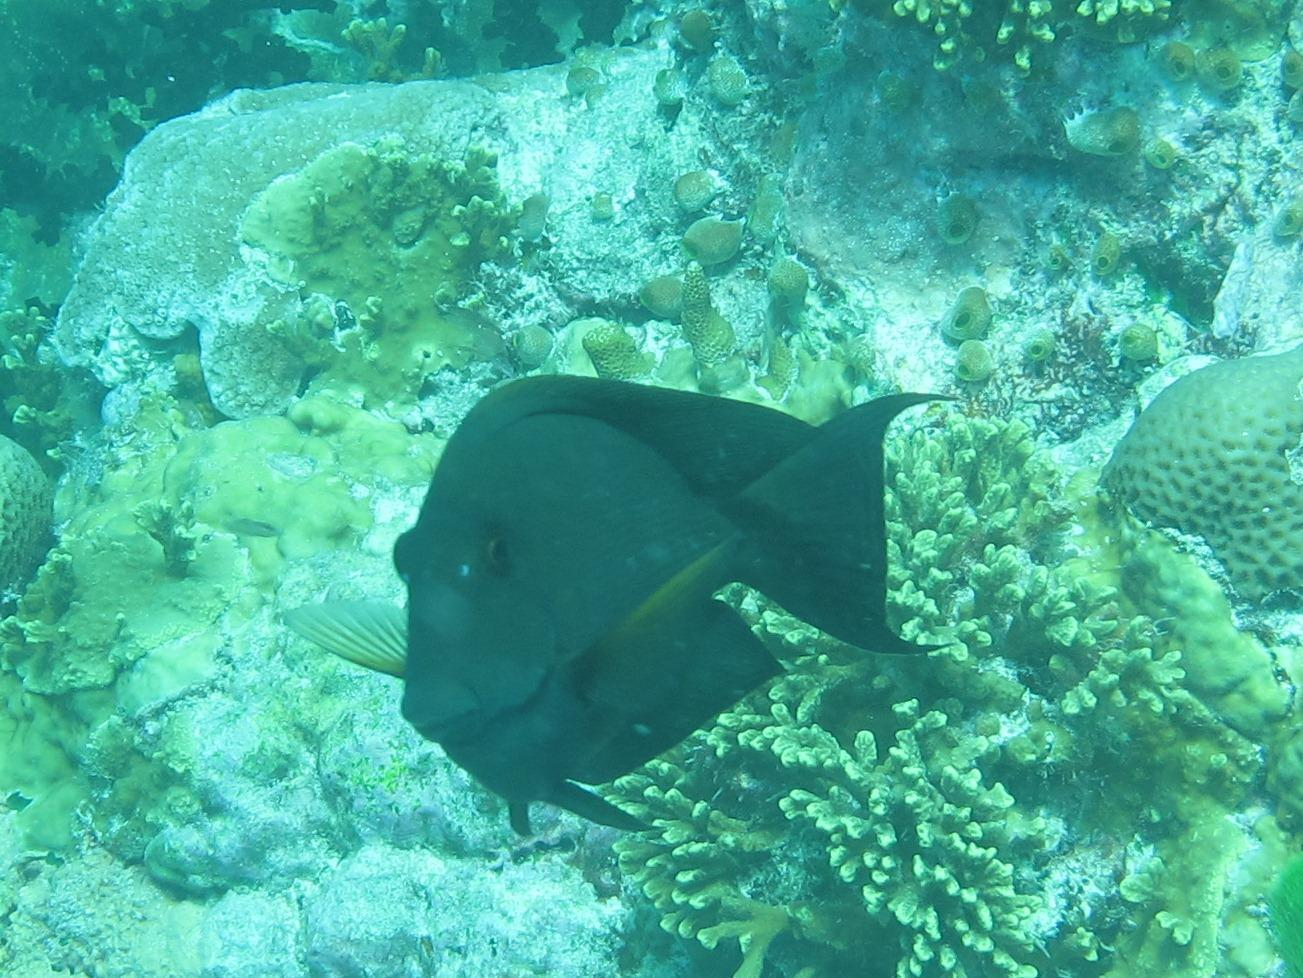Fish: (236, 293, 975, 855)
